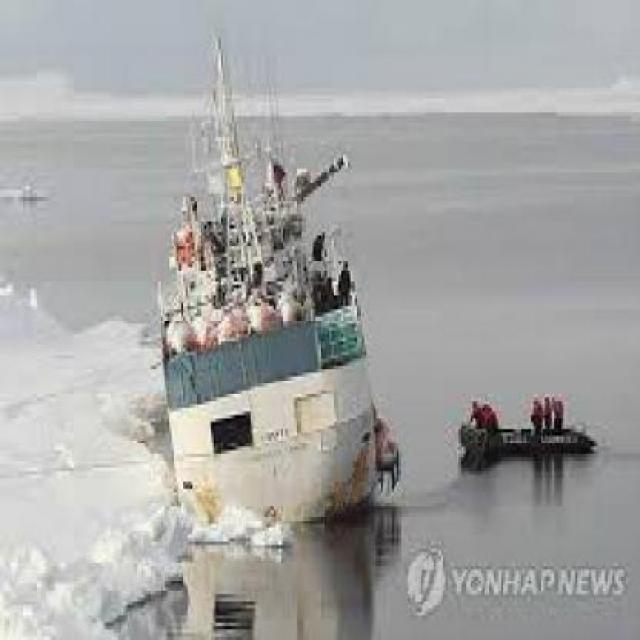Ship: (136, 33, 401, 558)
